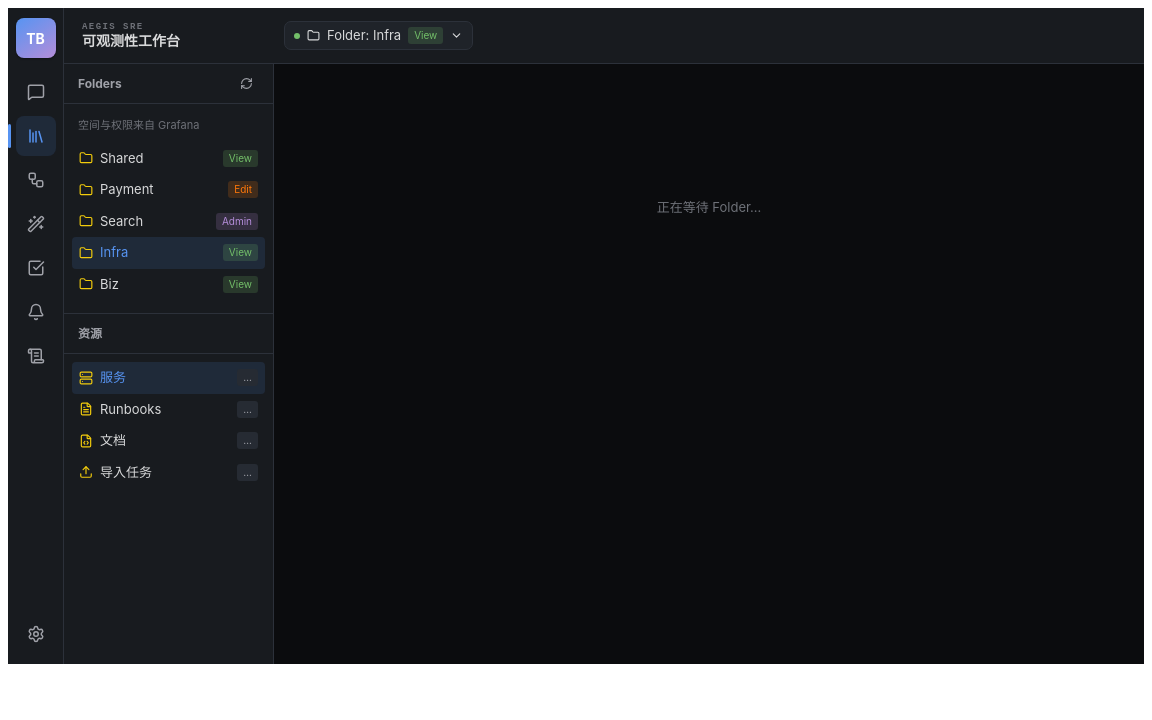
KnowledgePage services › filters the service list without changing Folder data
The width and height of the screenshot is (1152, 720).
Step 1. Click the button "Payment Edit" → point(168, 190), box [72,174,265,206]
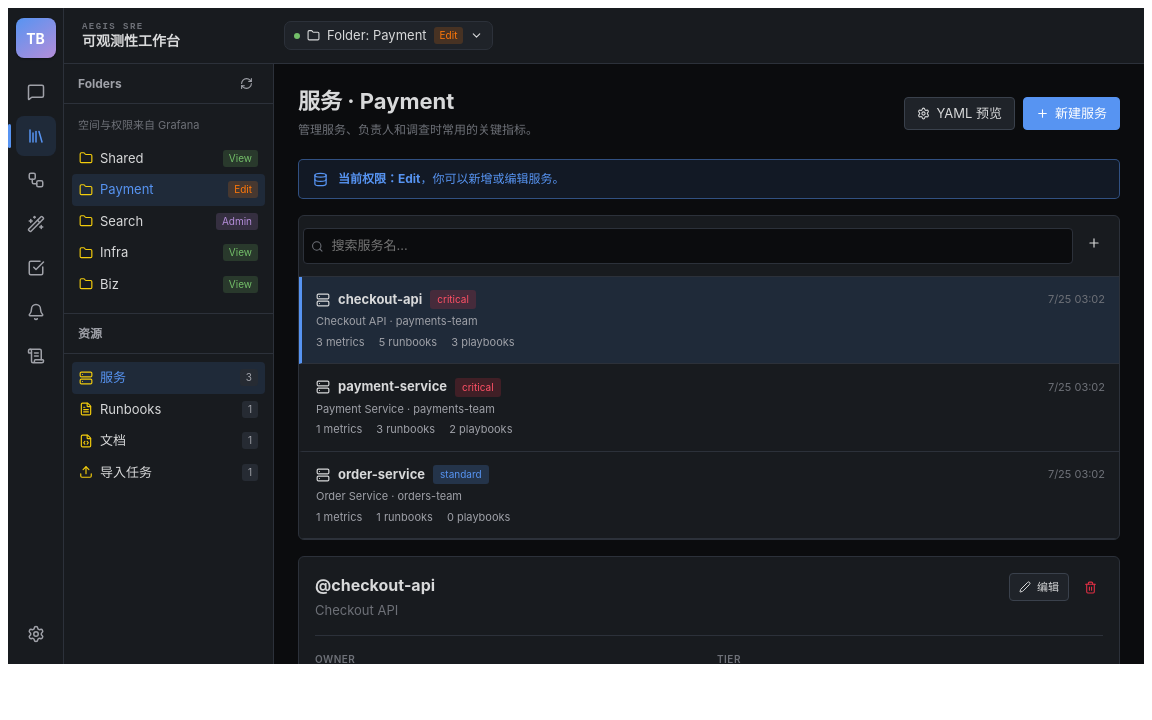
Result: the heading "@checkout-api" is shown at [315,573,435,597]
Step 2. Type "order" into the field labelled "搜索服务" → point(688, 246), box [303,228,1073,264]
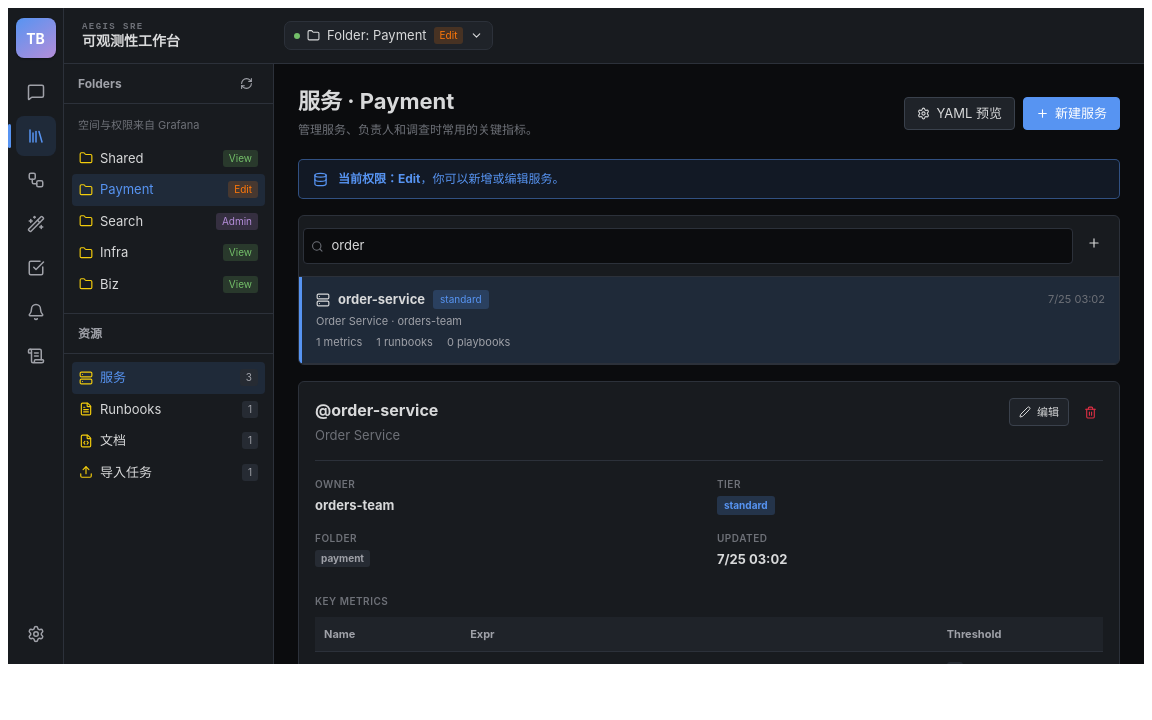
Result: the heading "@order-service" is shown at [315,398,438,422]
Result: the heading "@checkout-api" is gone
